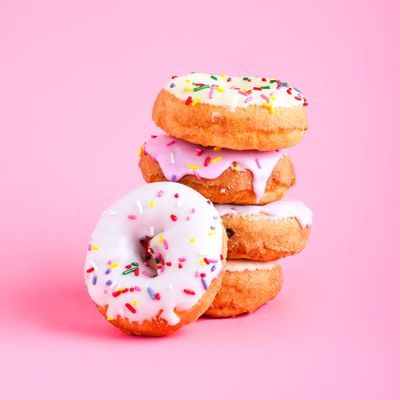salad: (83, 182, 227, 337), (153, 71, 310, 152), (138, 133, 297, 206), (213, 198, 315, 262), (202, 260, 283, 318)
